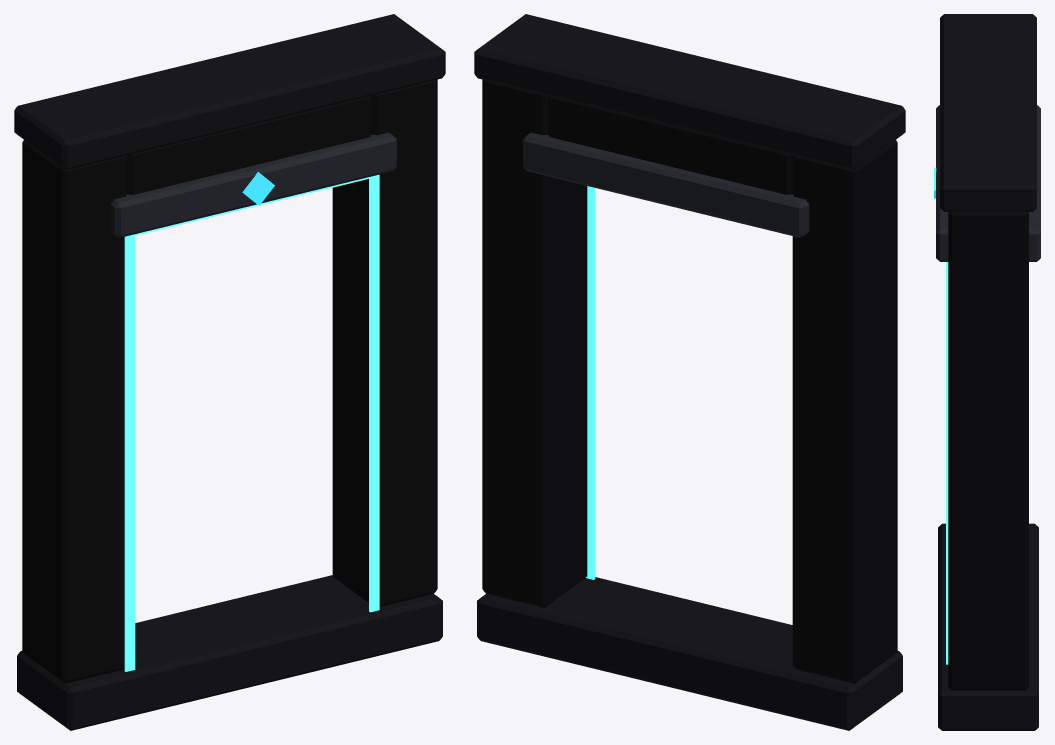
File: SM_Wall_Door.glb
3 views of the same model, side by side, from view 1: azimuth 30°, elevation 25°; view 2: azimuth 150°, elevation 25°; view 3: azimuth 270°, elevation 25° (orthographic). The views are drawn at different scales.
Visible parts, largest first — view 1: SM_Wall_Door; view 2: SM_Wall_Door; view 3: SM_Wall_Door.
Part boxes in pixels (x1=…): SM_Wall_Door: x1=14, y1=14, x2=445, y2=730; SM_Wall_Door: x1=474, y1=14, x2=905, y2=730; SM_Wall_Door: x1=934, y1=14, x2=1040, y2=730.
Size of the model in its own units: 2.04 by 3 by 0.53.
1 material, 1 textured.
